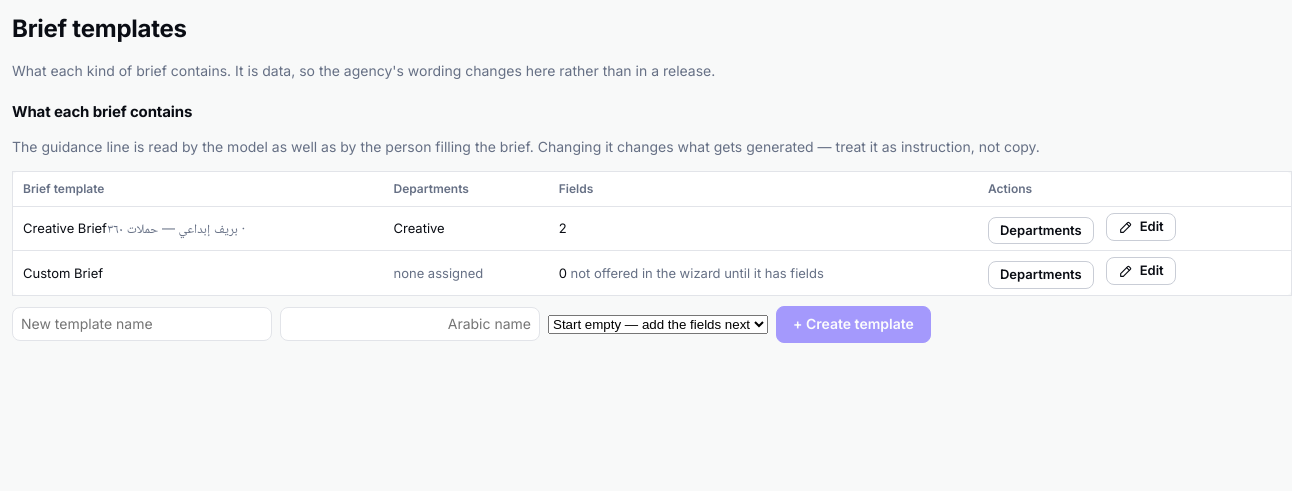
Test case: Admin → Brief templates — naming, creating, assigning (30 Aug) › lists every department as a checklist under a template
Click the button with test id "brief-template-assign-open-360": (1041, 230) [988,216,1094,244]
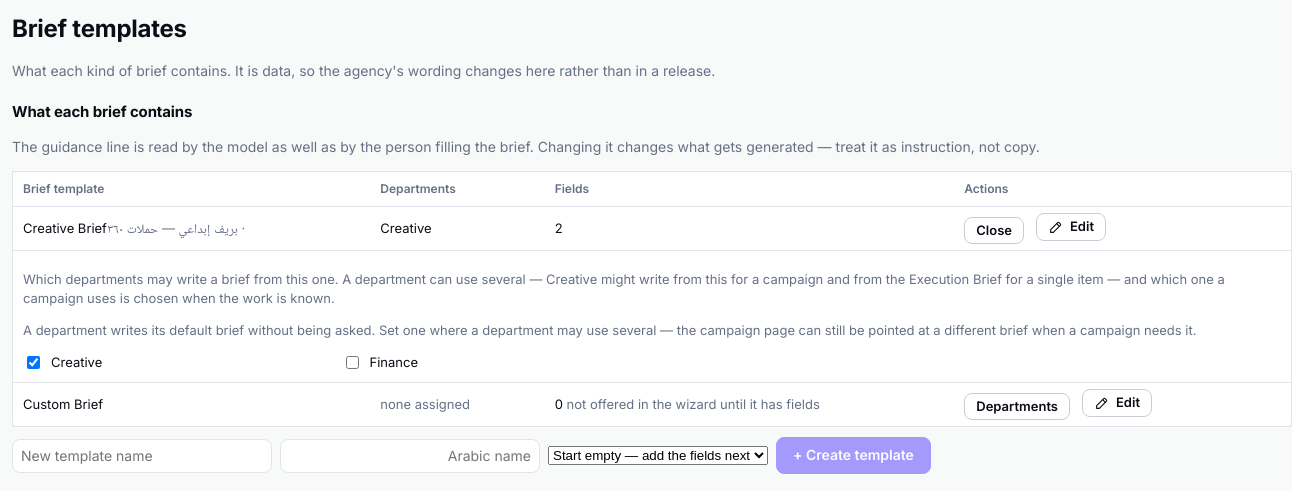
Expected: the checkbox with test id "brief-template-assign-360-dep-creative" is checked, [27,356,40,369]
Expected: the checkbox with test id "brief-template-assign-360-dep-finance" is not checked, [346,356,358,369]
